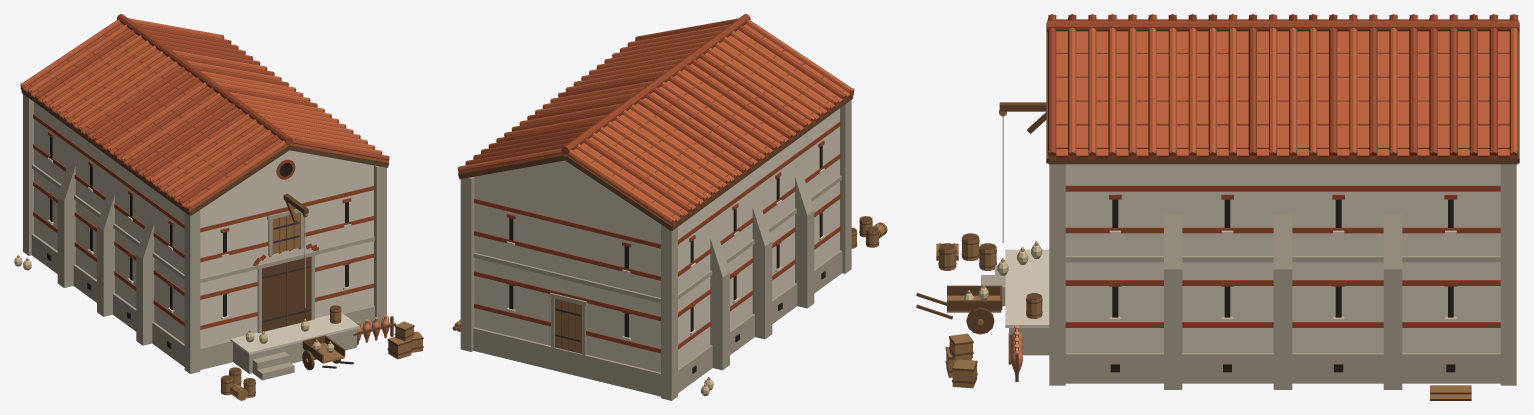
The model's file is LagerMittel.fbx.
3 renders of one model, left to right at view 1: azimuth 30°, elevation 25°; view 2: azimuth 150°, elevation 25°; view 3: azimuth 270°, elevation 25°, orthographic. The views are drawn at different scales.
Visible parts, largest first — view 1: LagerMittel_0; view 2: LagerMittel_0; view 3: LagerMittel_0.
Boxes of the visible parts, x1,y1,x2,y2 form: LagerMittel_0: [14, 14, 423, 400]; LagerMittel_0: [452, 14, 887, 400]; LagerMittel_0: [916, 14, 1519, 400].
Bounding box in the file's own units: 3.38 × 2.85 × 5.21.
